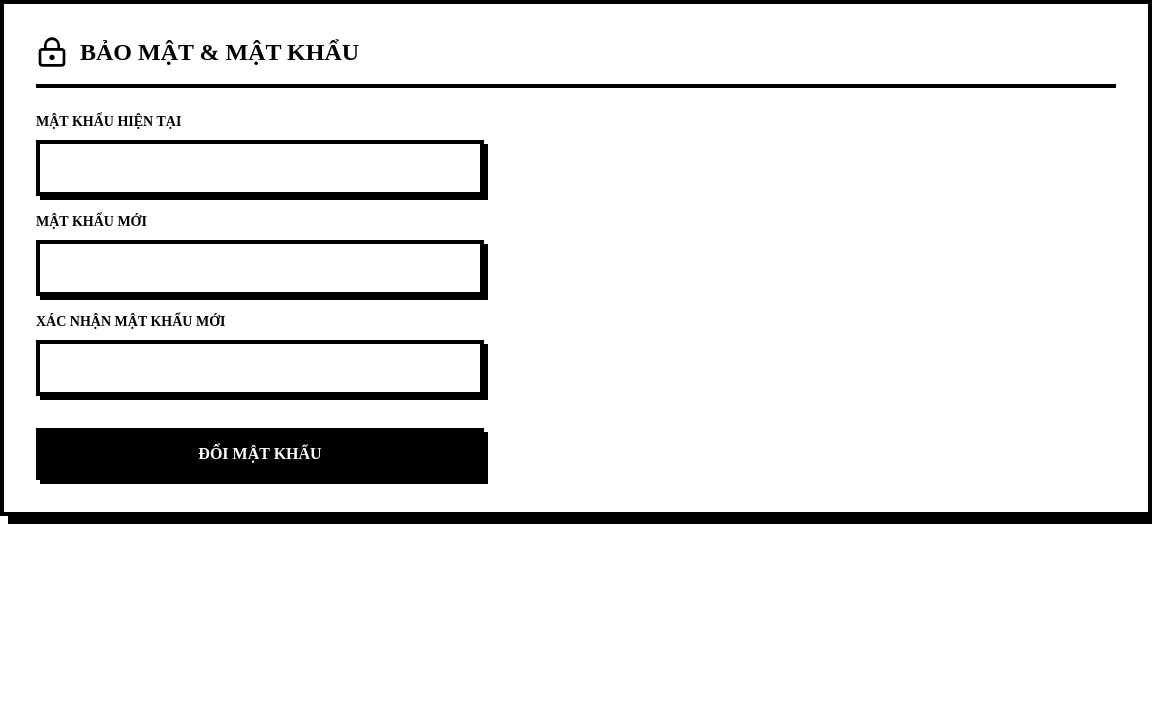
profile error localization › password form does not render rejected password data
In the password field below "Mật khẩu hiện tại": (260, 168) [36,140,484,196], type "canary-old-password"
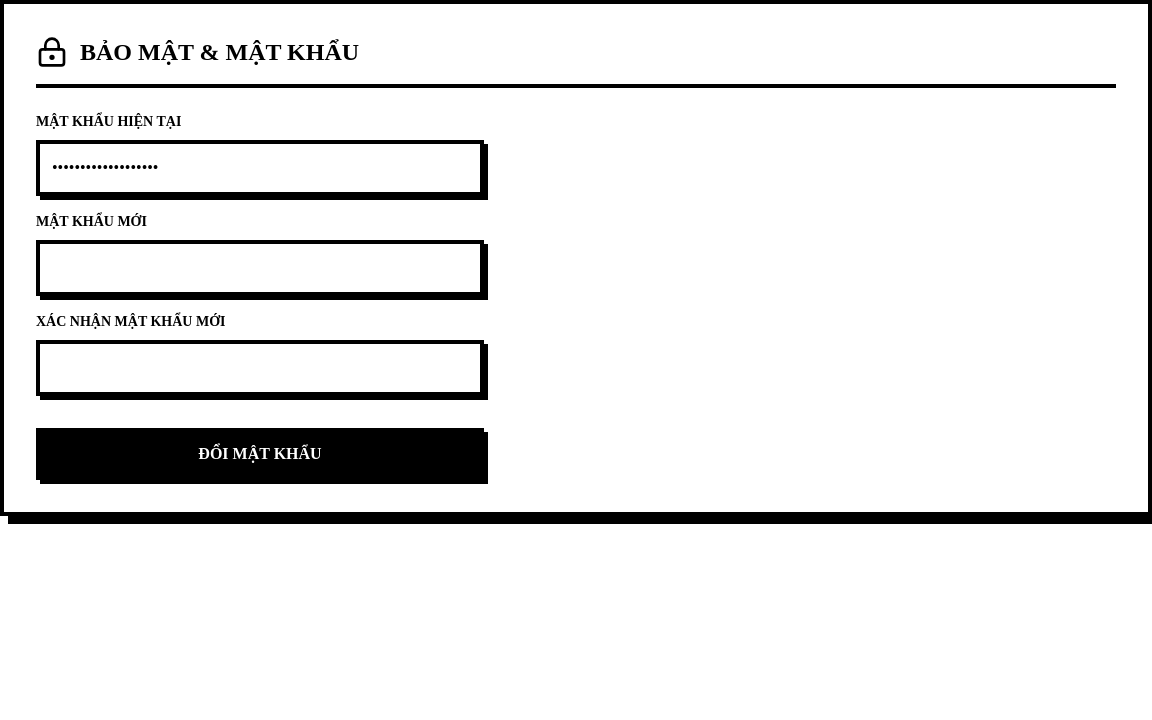
In the 2nd password field: (260, 268) [36,240,484,296], type "canary-new-password"
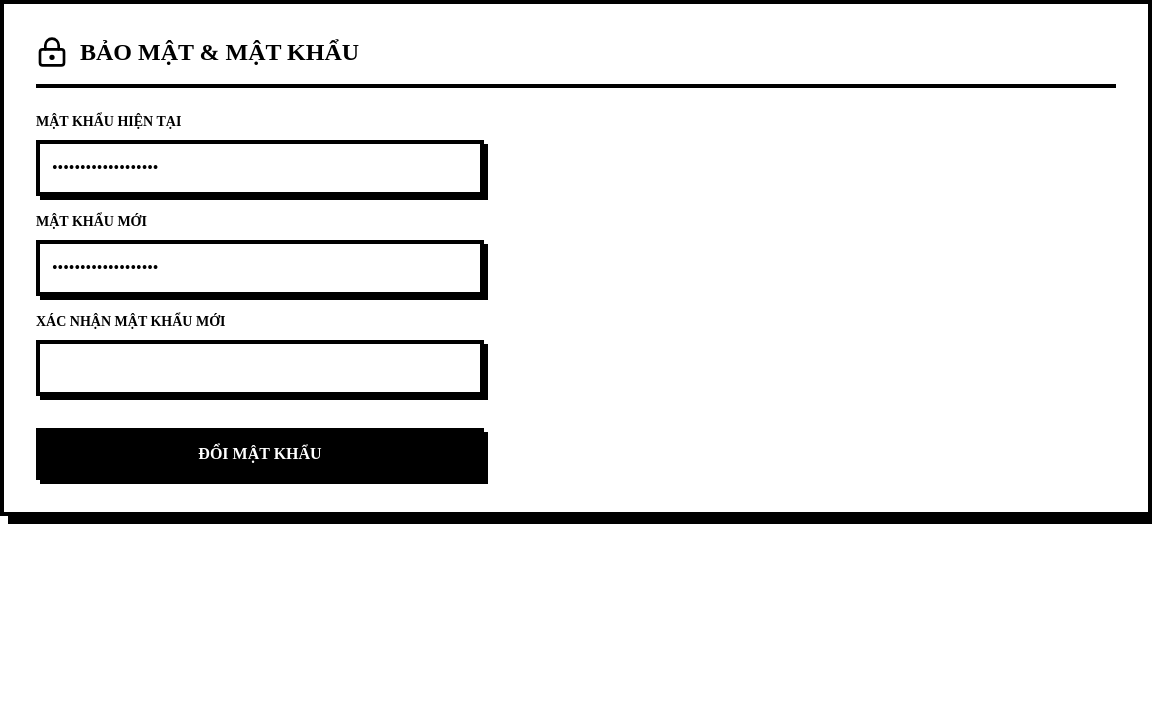
In the password field below "Xác nhận mật khẩu mới": (260, 368) [36,340,484,396], type "canary-new-password"
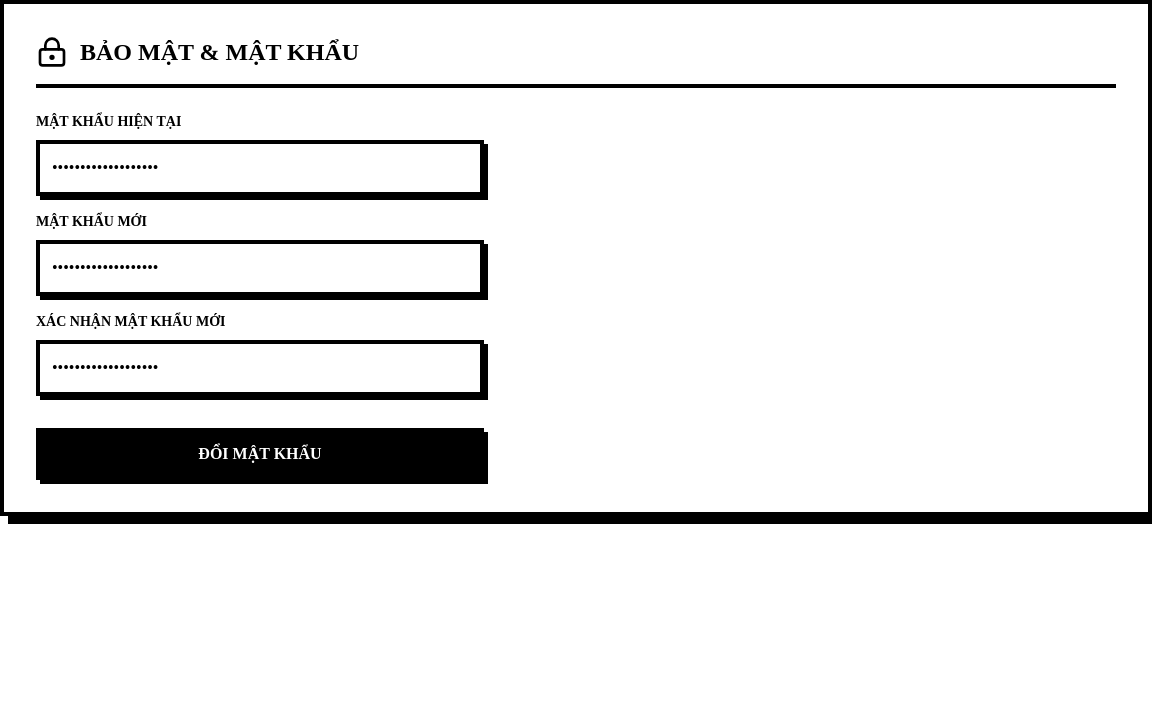
Submit the form, box [36,112,484,480]
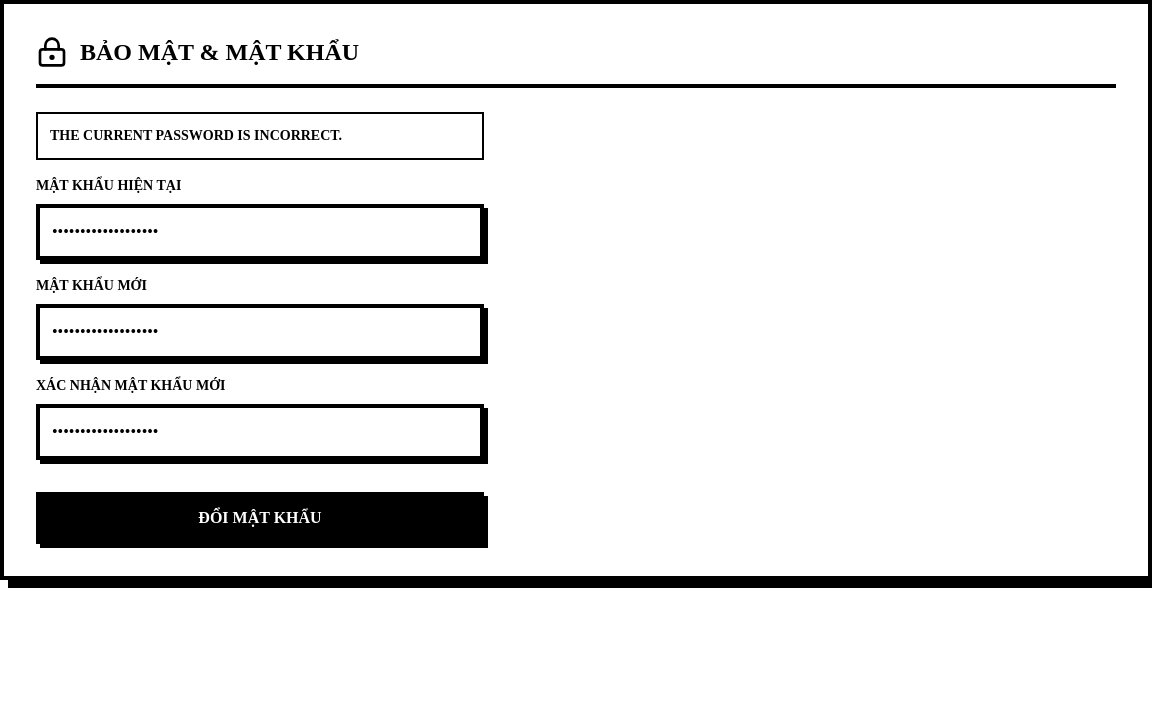
Check: the text "The current password is incorrect." is shown, box [36,112,484,160]
